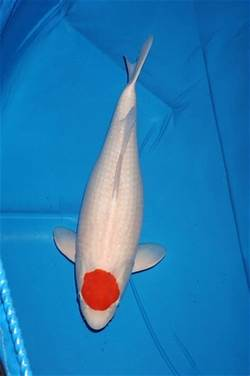sun: (53, 35, 167, 331)
